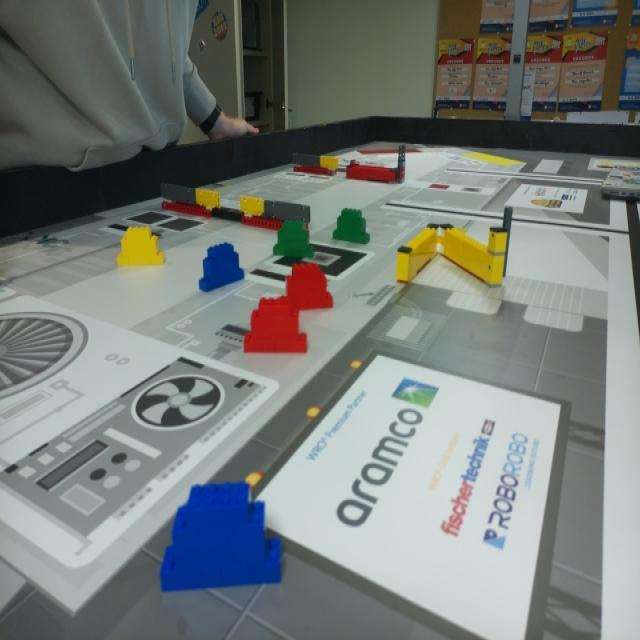blau: (163, 488, 278, 585), (202, 244, 244, 291)
gruen: (276, 220, 312, 257), (334, 207, 369, 243)
rot: (249, 303, 307, 357), (284, 263, 332, 310)
yellow: (116, 224, 164, 267)
